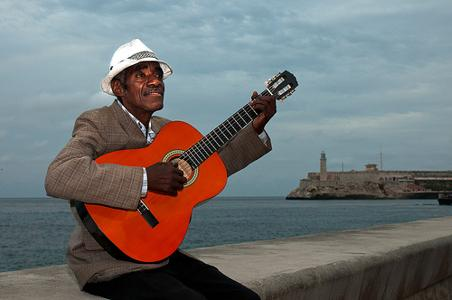person: (46, 40, 276, 300)
